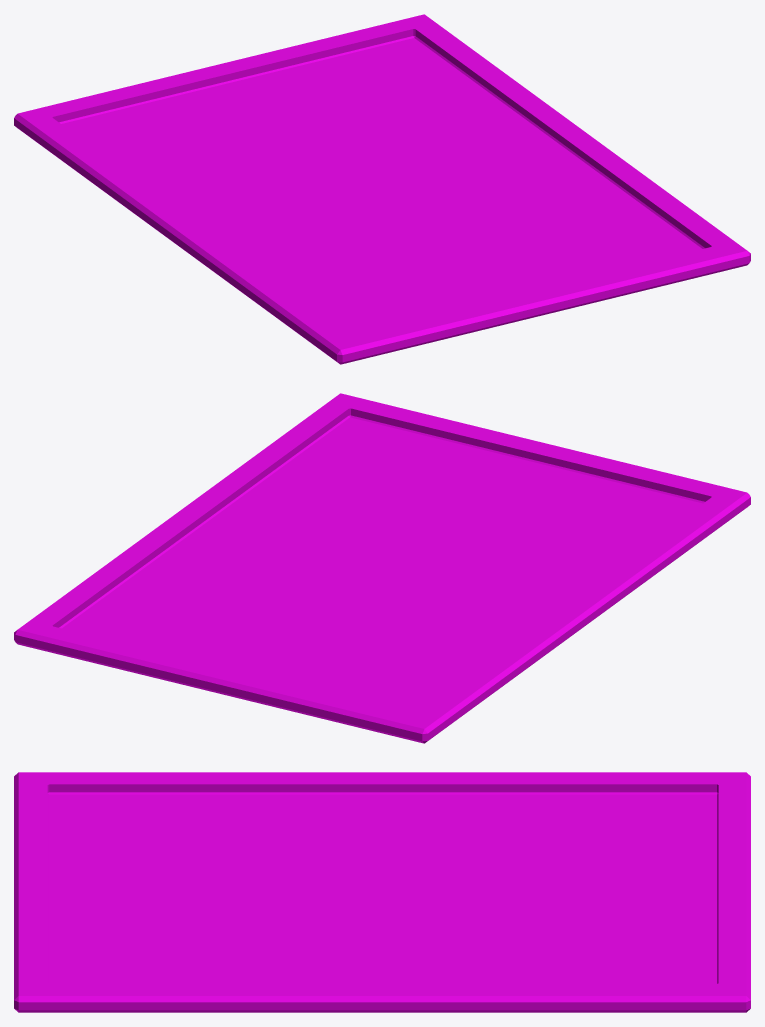
Rendered from SM_Painting.fbx.
The picture shows the model from 3 angles, top to bottom: view 1: azimuth 30°, elevation 25°; view 2: azimuth 150°, elevation 25°; view 3: azimuth 270°, elevation 25°; orthographic projection. The views are drawn at different scales.
Parts seen in each view (by area): view 1: frame; view 2: frame; view 3: frame.
Part boxes in pixels (x1,y1,x2,y2): frame: (14, 14, 750, 364); frame: (14, 393, 750, 743); frame: (14, 772, 750, 1012).
Size of the model in its own units: 36.08 by 1.22 by 49.37.
